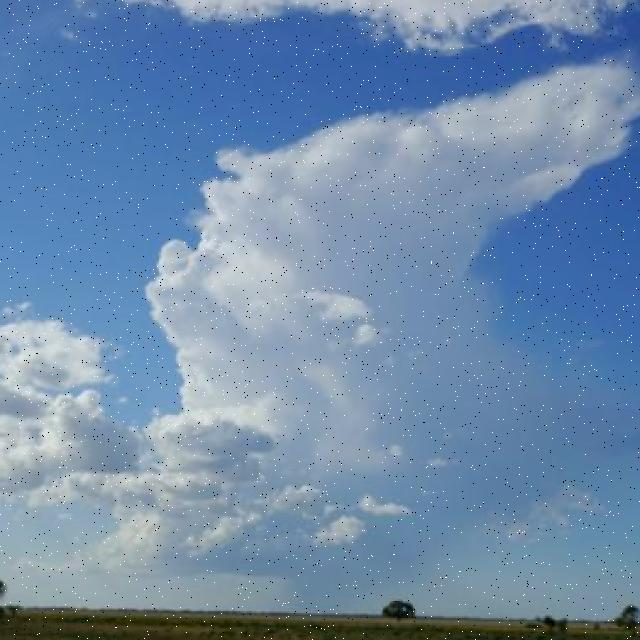Cb: (1, 57, 640, 517)
